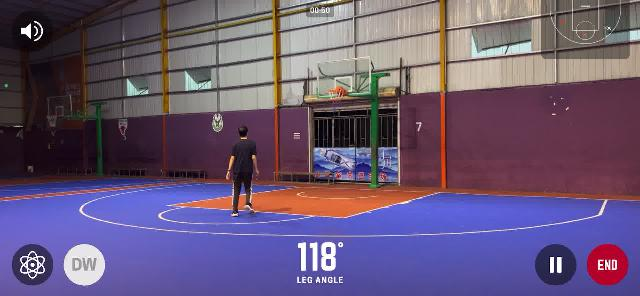ball: (334, 84, 344, 92)
basket: (328, 88, 346, 106)
